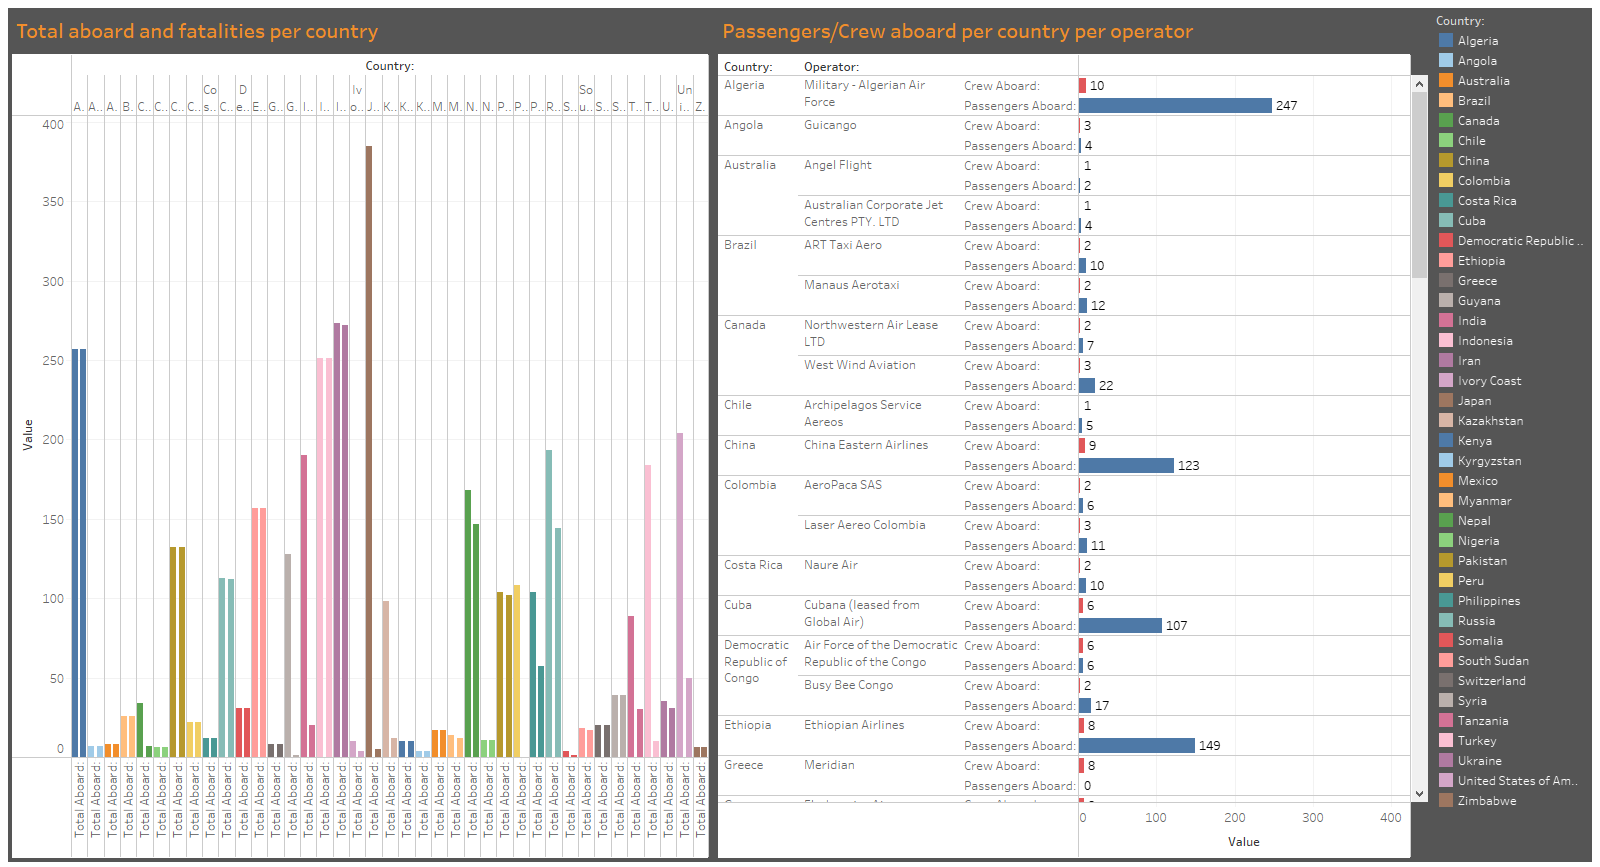

The page's visual inventory and layout, read from the dashboard file:
{"tool":"tableau","page":{"name":"Dashboard 2","canvas":[1000,1000],"units":"permille","ordinal":1},"visuals":[{"type":"worksheet","title":"Total aboard and fatalities per country","mark":"Automatic","box":[5,9.2,440.9,981.6]},{"type":"worksheet","title":"Passengers/Crew aboard per country per operator","mark":"Automatic","box":[445.9,9.2,449.1,981.6]},{"type":"legend","title":"Total aboard and fatalities per country","param":"[federated.18n7opj0642oc31chzces1jfogys].[none:Country::nk]","box":[895,9.2,100,926.4]}]}

Visuals, with their boxes on the dashboard's canvas, which has no fixed pixel size, in thousandths of its width and height (x1, y1, x2, y2). These are canvas units, not pixel positions in the 1600x867 screenshot, which may show the page scaled, cropped or inside an application window:
"Total aboard and fatalities per country" worksheet: crop(5, 9, 446, 991)
"Passengers/Crew aboard per country per operator" worksheet: crop(446, 9, 895, 991)
"Total aboard and fatalities per country" legend: crop(895, 9, 995, 936)
